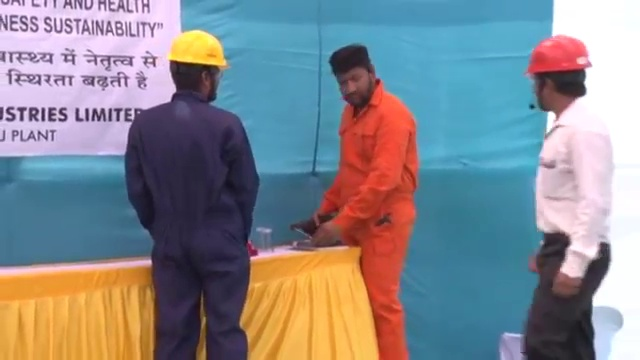helmet: (164, 27, 232, 72), (521, 35, 596, 75)
helmet_off: (328, 43, 384, 111)
helmet_on: (520, 32, 596, 118), (162, 25, 231, 102)
person: (122, 19, 262, 360), (303, 43, 420, 360), (521, 31, 617, 360)
